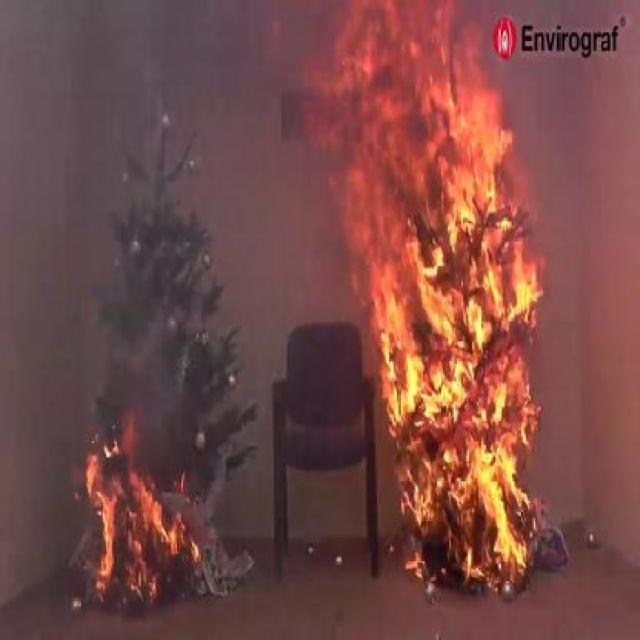fire: (332, 29, 545, 546), (73, 417, 192, 596)
smoke: (72, 80, 240, 354)
